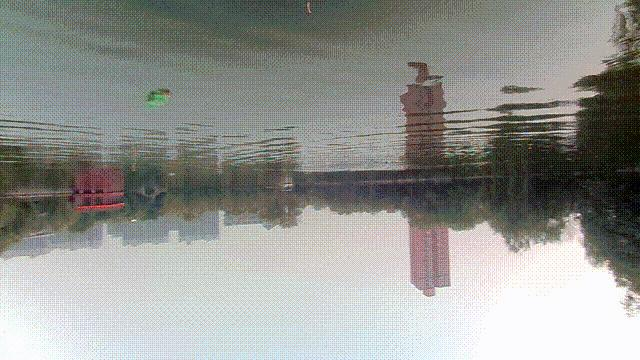Plastic: (139, 87, 176, 114)
